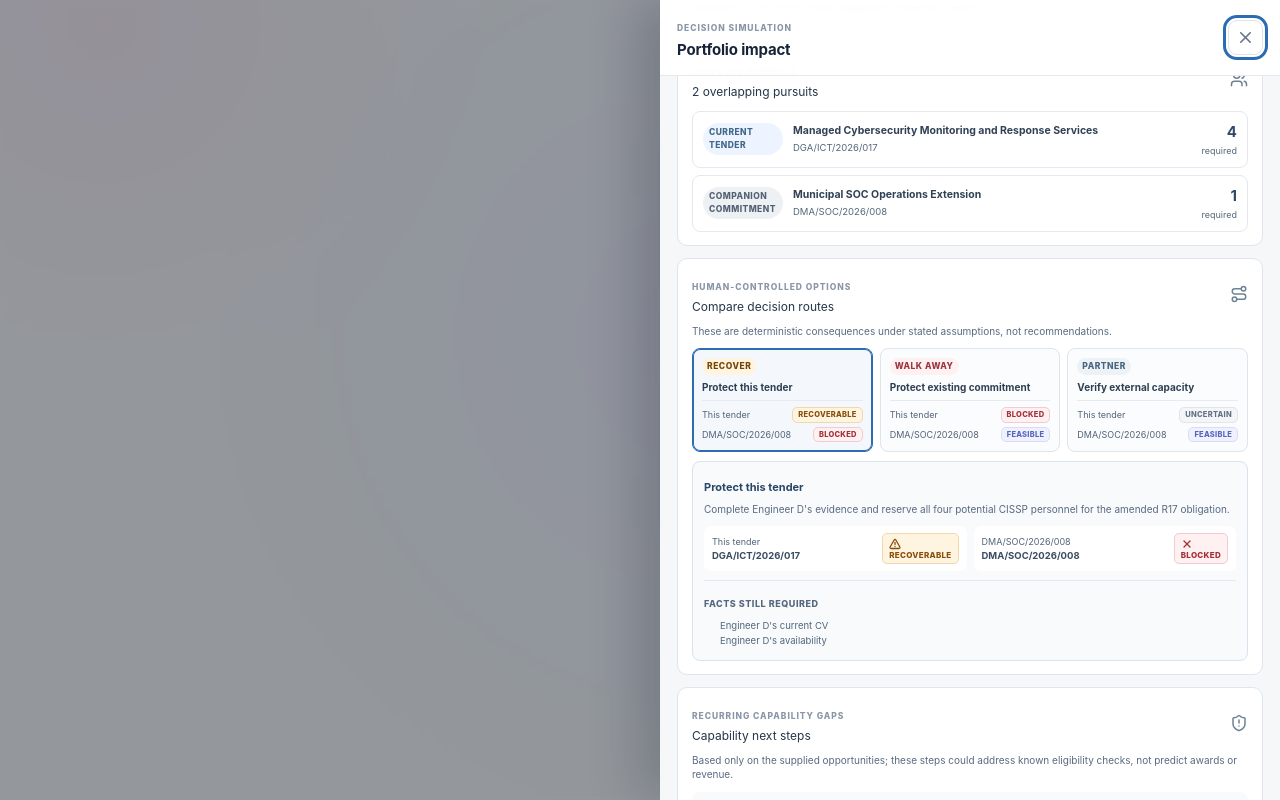
Scenario: compares deterministic routes without presenting them as recommendations
(page scrolled)
Expected: the text "not recommendations" is shown, 692,325 -> 1112,337
Click the button "Protect existing commitment" at (970, 400), box 880,348 -> 1060,452
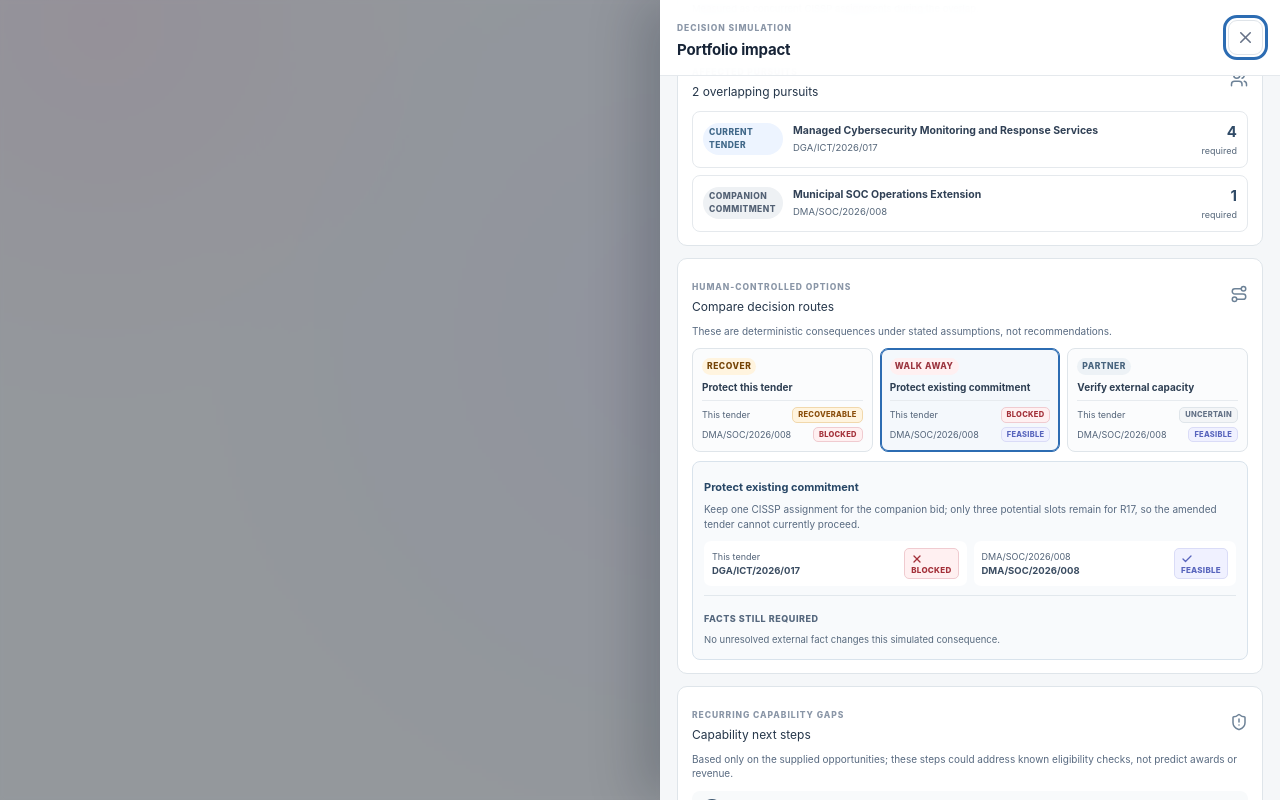
Expected: the text "Keep one CISSP assignment for the companion bid" is shown, 704,503 -> 1217,530
Expected: the text "No unresolved external fact changes this simulated consequence." is shown, 704,634 -> 1000,645
